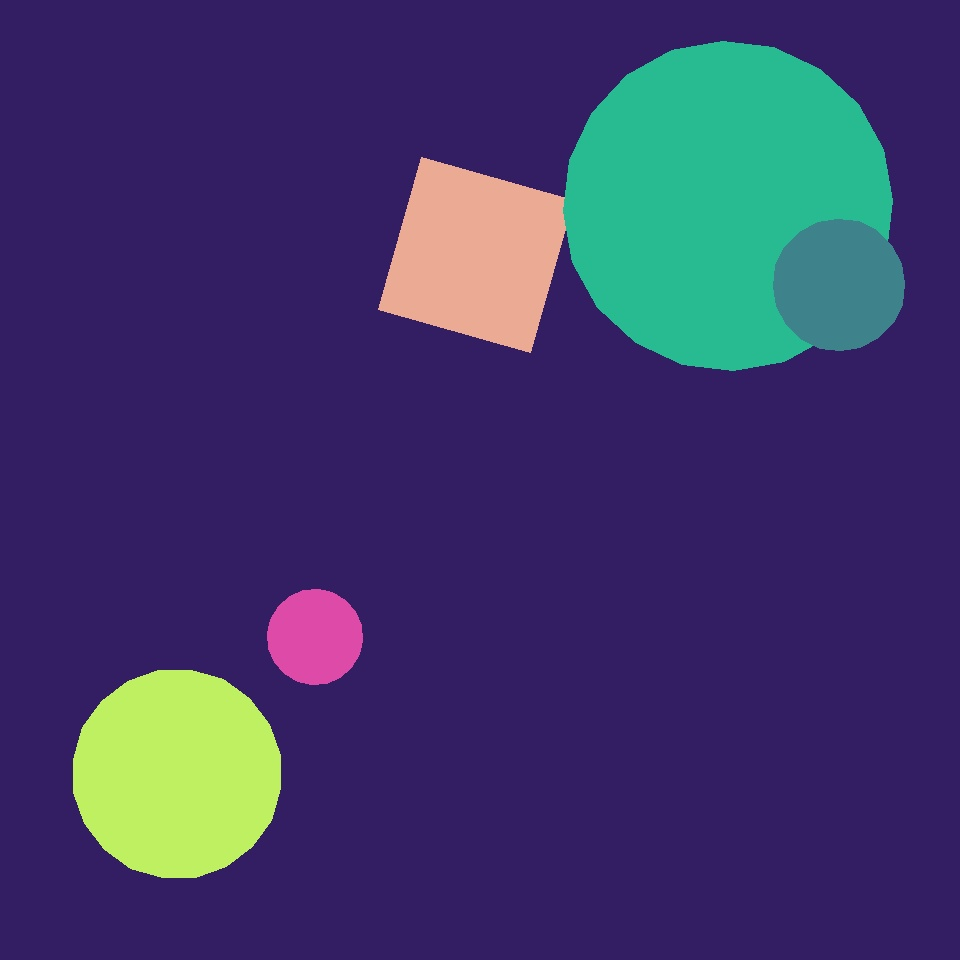square: (378, 158, 574, 352)
triangle: (564, 41, 892, 370), (74, 670, 281, 878), (774, 220, 904, 350), (268, 590, 362, 684)
